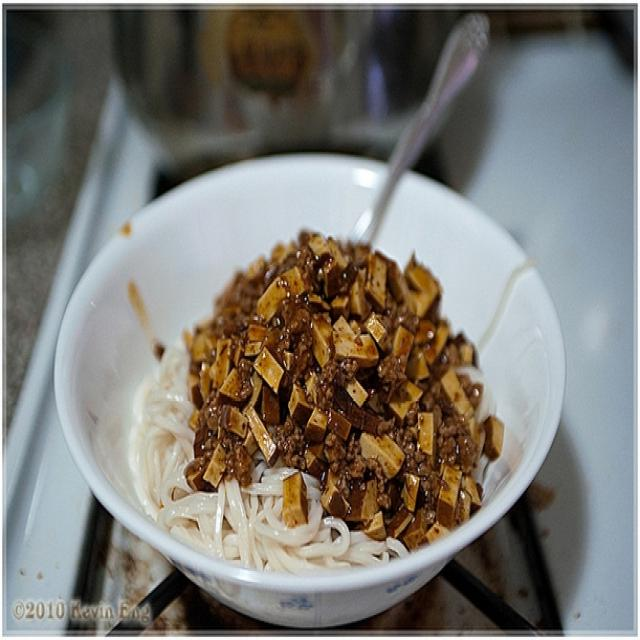面条主食: (51, 157, 568, 594)
